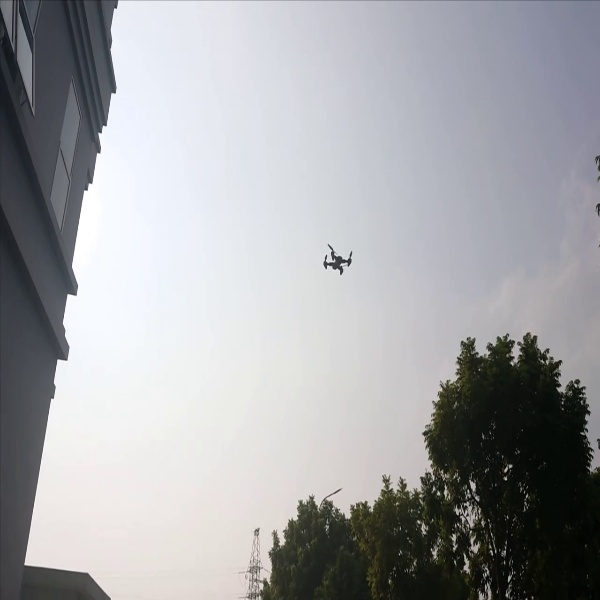drone: (317, 233, 361, 280)
